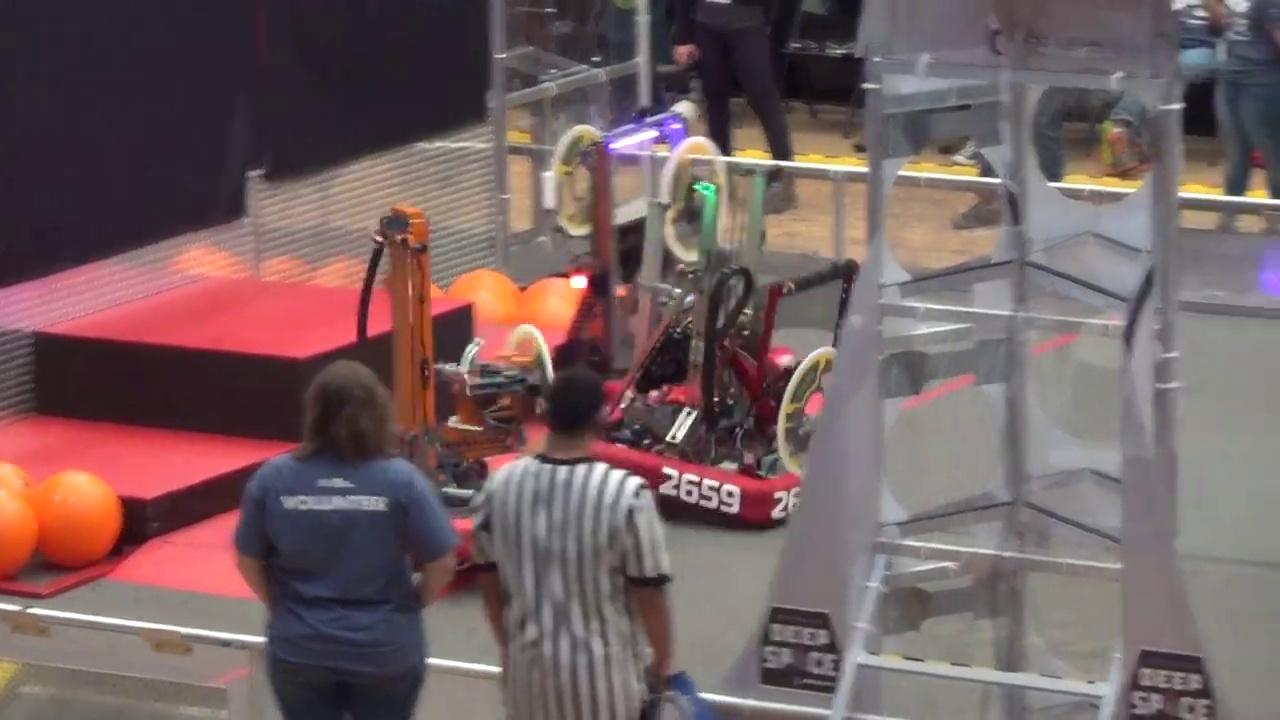robot: (608, 151, 823, 532)
